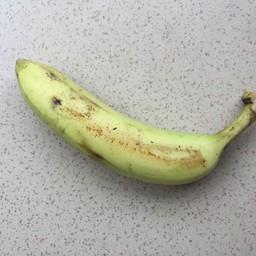Good_banana: (11, 57, 253, 202)
